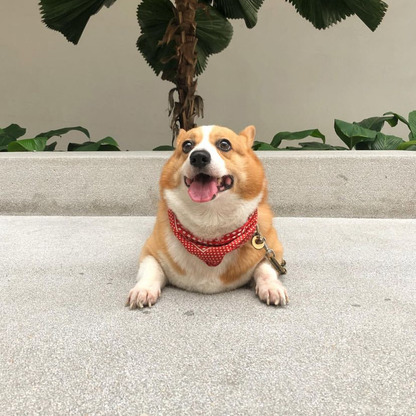Corgi: (134, 118, 306, 319)
